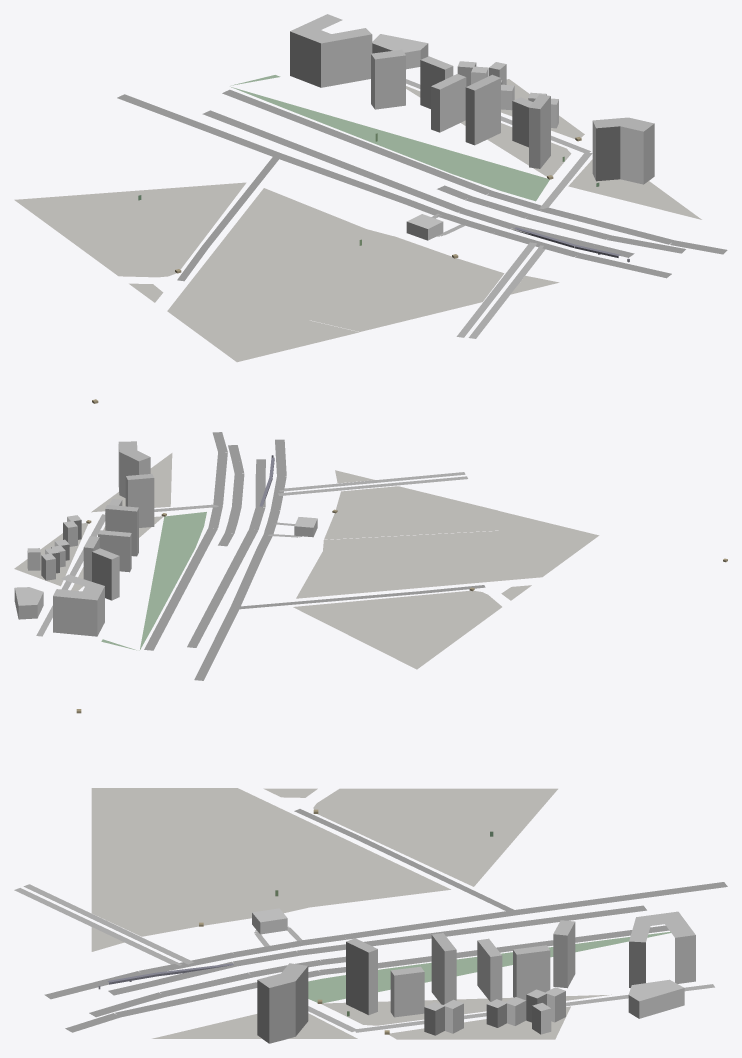
3 views of the same model, one above another, from view 1: azimuth 30°, elevation 25°; view 2: azimuth 150°, elevation 25°; view 3: azimuth 270°, elevation 25° (orthographic). The views are drawn at different scales.
Bounding box in the file's own units: 660 × 60.05 × 598.
